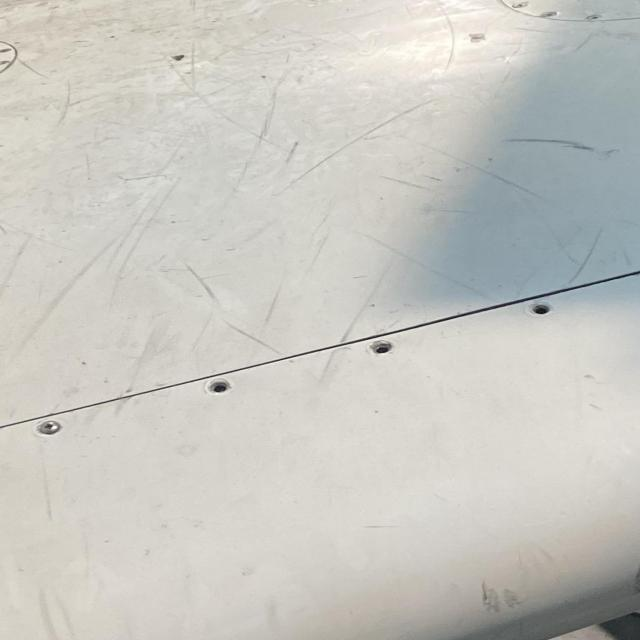Missing-head: (368, 340, 393, 354), (207, 380, 230, 395), (530, 302, 552, 315)
